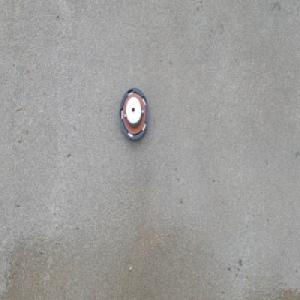FuelCap: (117, 85, 148, 141)
